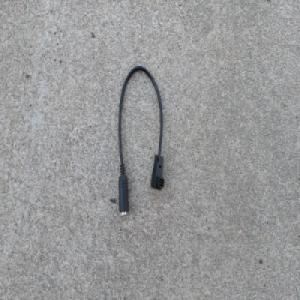Wire: (115, 64, 166, 217)
